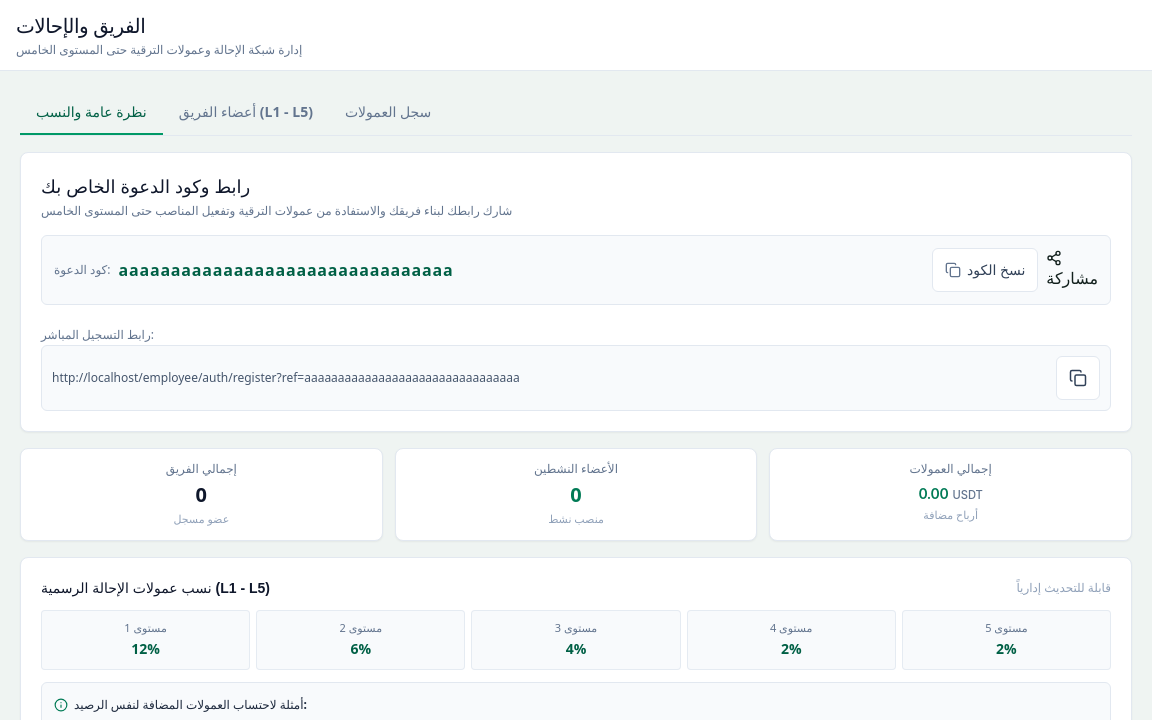
Test: uses fixed invite identity and only viewer-attributable member earnings
Click the button "أعضاء الفريق (L1 - L5)": (246, 113) x1=163 y1=91 x2=329 y2=135
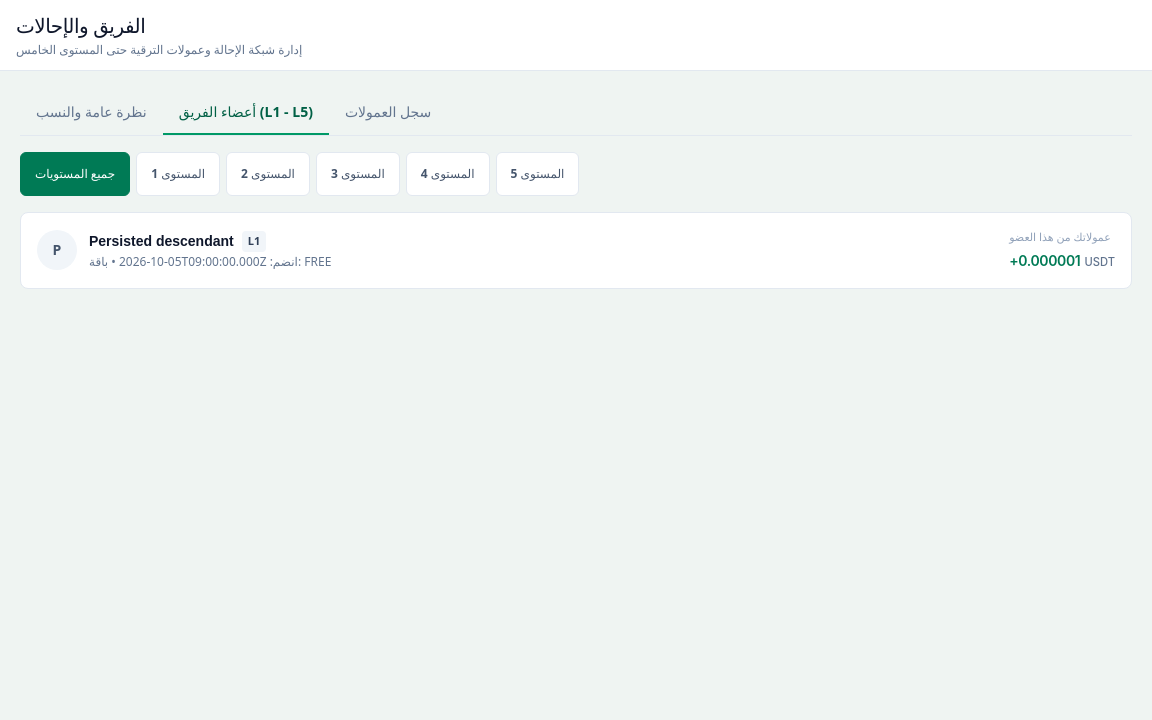
Result: the heading "Persisted descendant" is shown at x1=89 y1=231 x2=234 y2=251
Result: the text "عمولاتك من هذا العضو" is shown at x1=1009 y1=229 x2=1115 y2=246
Result: the text "+0.000001" is shown at x1=1009 y1=250 x2=1080 y2=270
